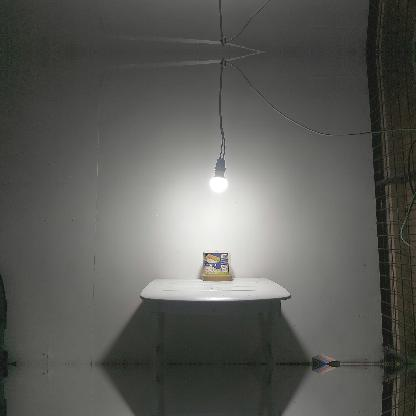Lady-s-Choice: (202, 249, 233, 280)
